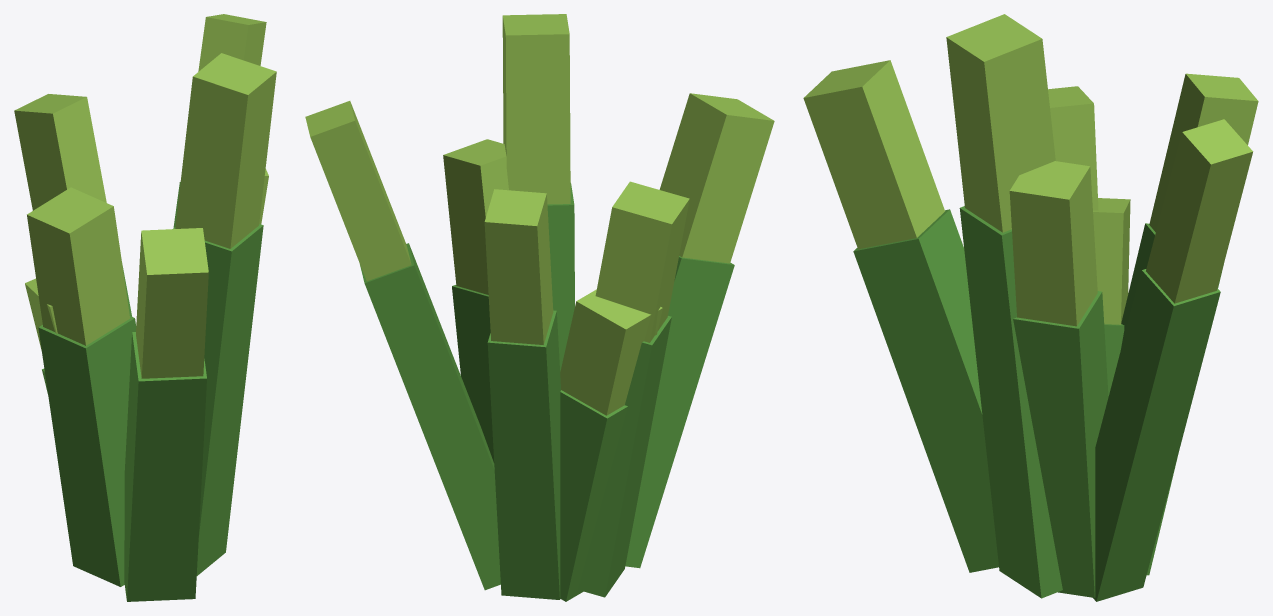
Rendered from B02_grass_medium.obj.
The picture shows the model from 3 angles, left to right: view 1: azimuth 30°, elevation 25°; view 2: azimuth 150°, elevation 25°; view 3: azimuth 270°, elevation 25°; orthographic projection. The views are drawn at different scales.
Parts seen in each view (by area): view 1: B02_grass_medium; view 2: B02_grass_medium; view 3: B02_grass_medium.
Part boxes in pixels (x1,y1,x2,y2): B02_grass_medium: (14, 14, 276, 601); B02_grass_medium: (305, 14, 774, 601); B02_grass_medium: (803, 14, 1258, 601).
Size of the model in its own units: 0.4952 by 0.8023 by 0.5847.
